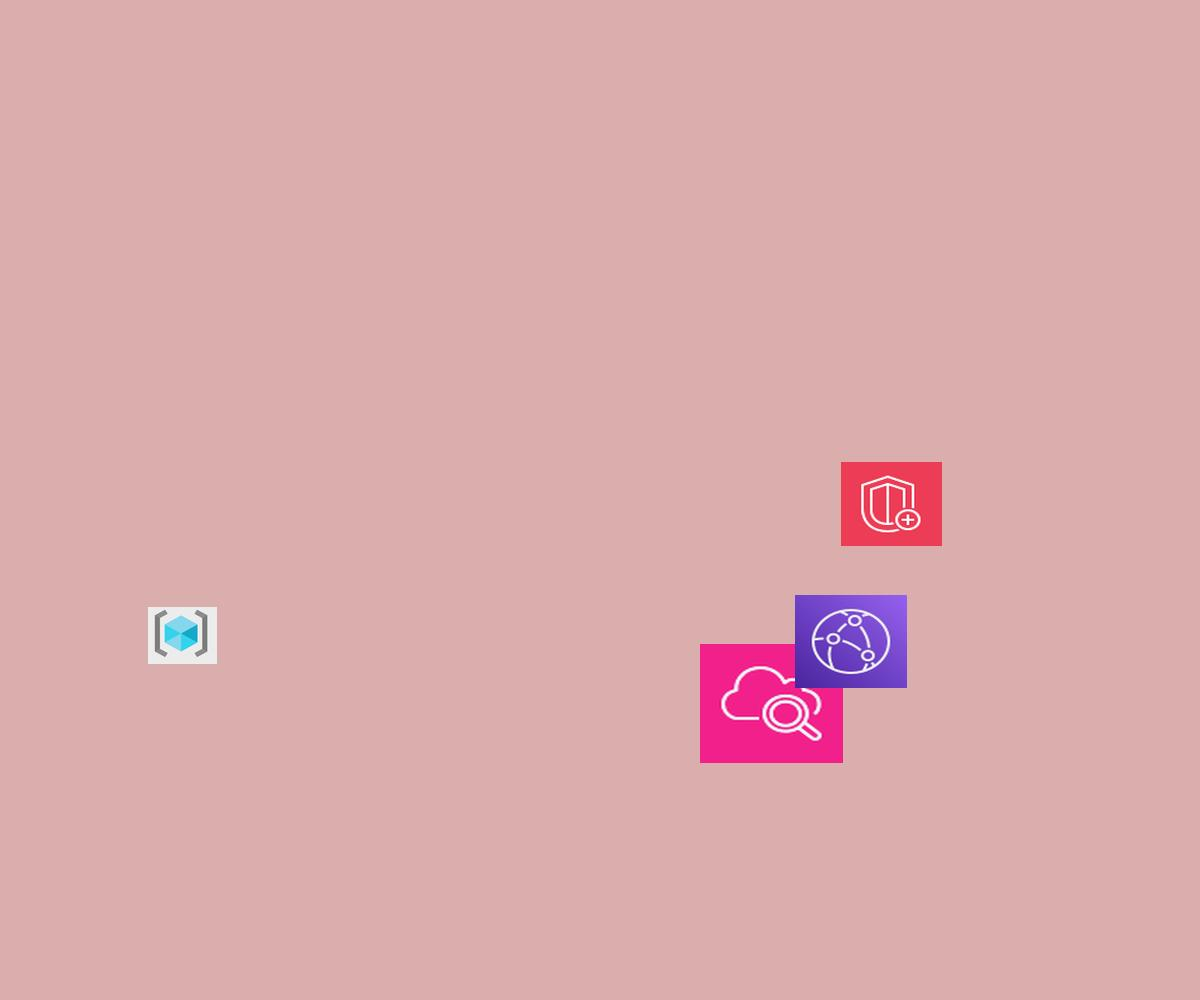AWS-CloudFront: (795, 595, 907, 688)
AWS-CloudWatch: (700, 644, 843, 763)
AWS-Shield: (841, 462, 942, 546)
Azure_resource_group: (148, 607, 217, 664)
